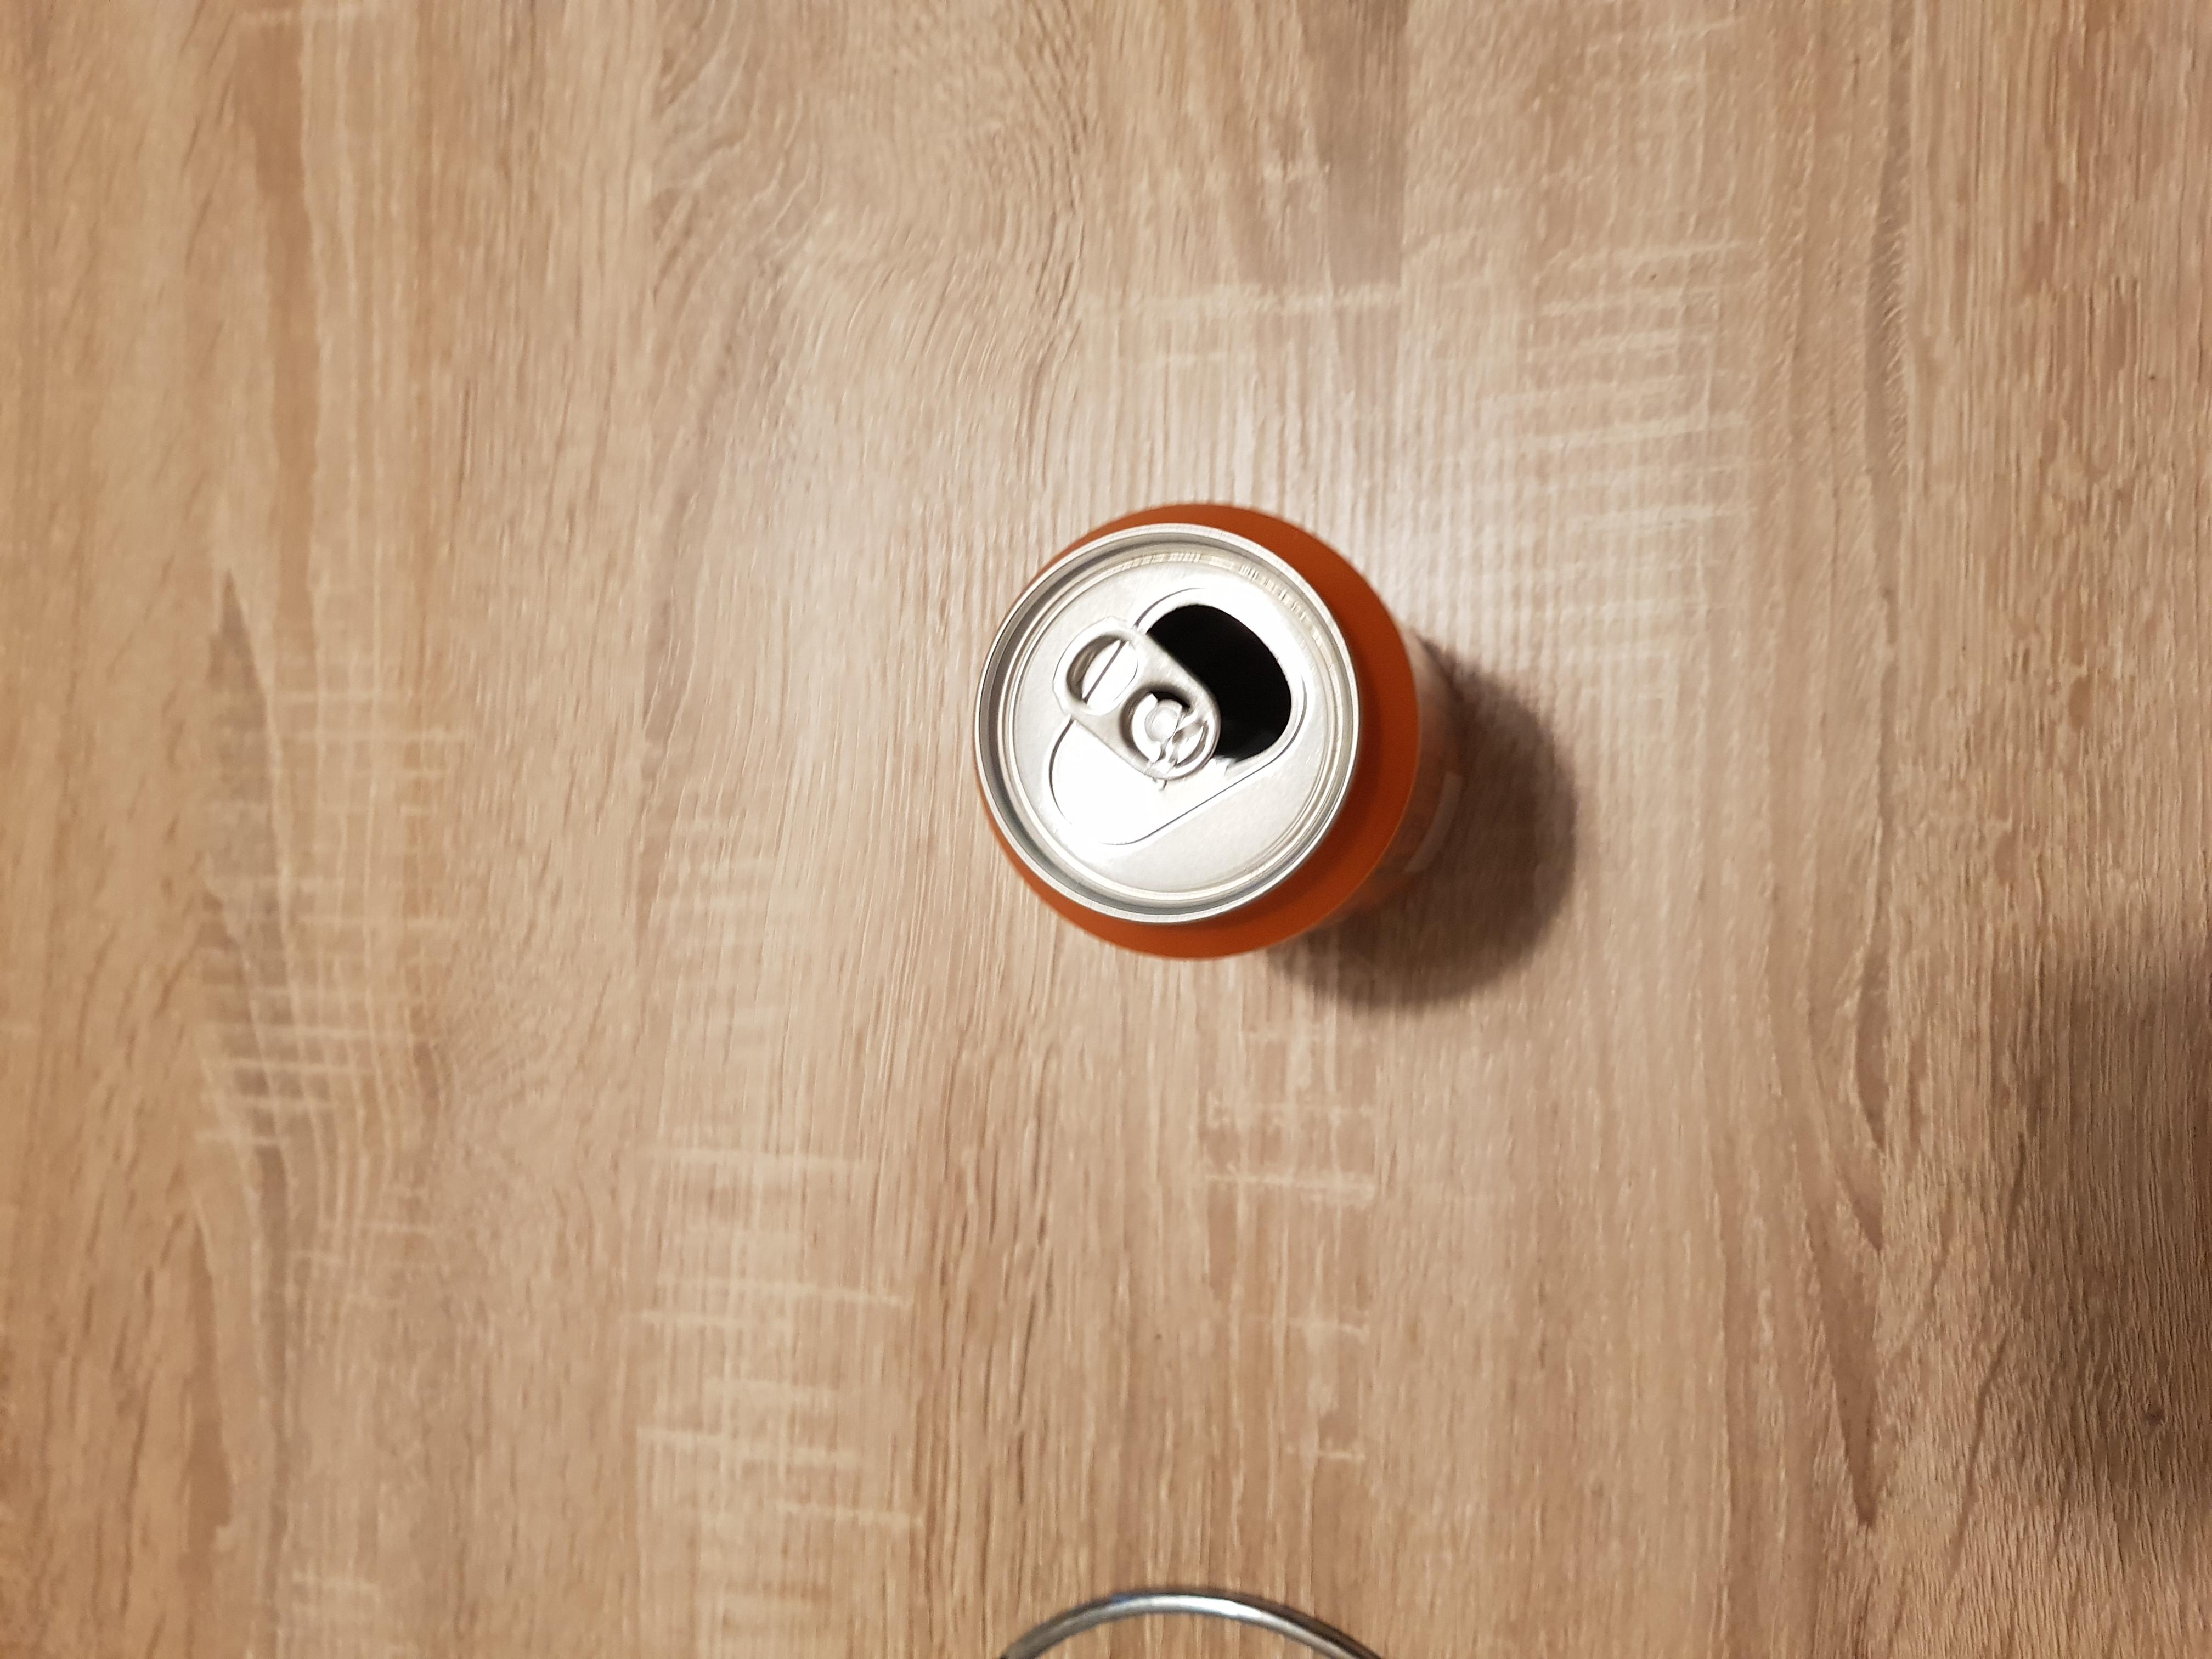Can: (965, 495, 1468, 958)
